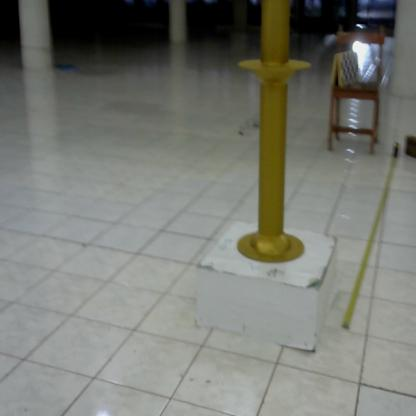pole: (234, 1, 312, 268)
